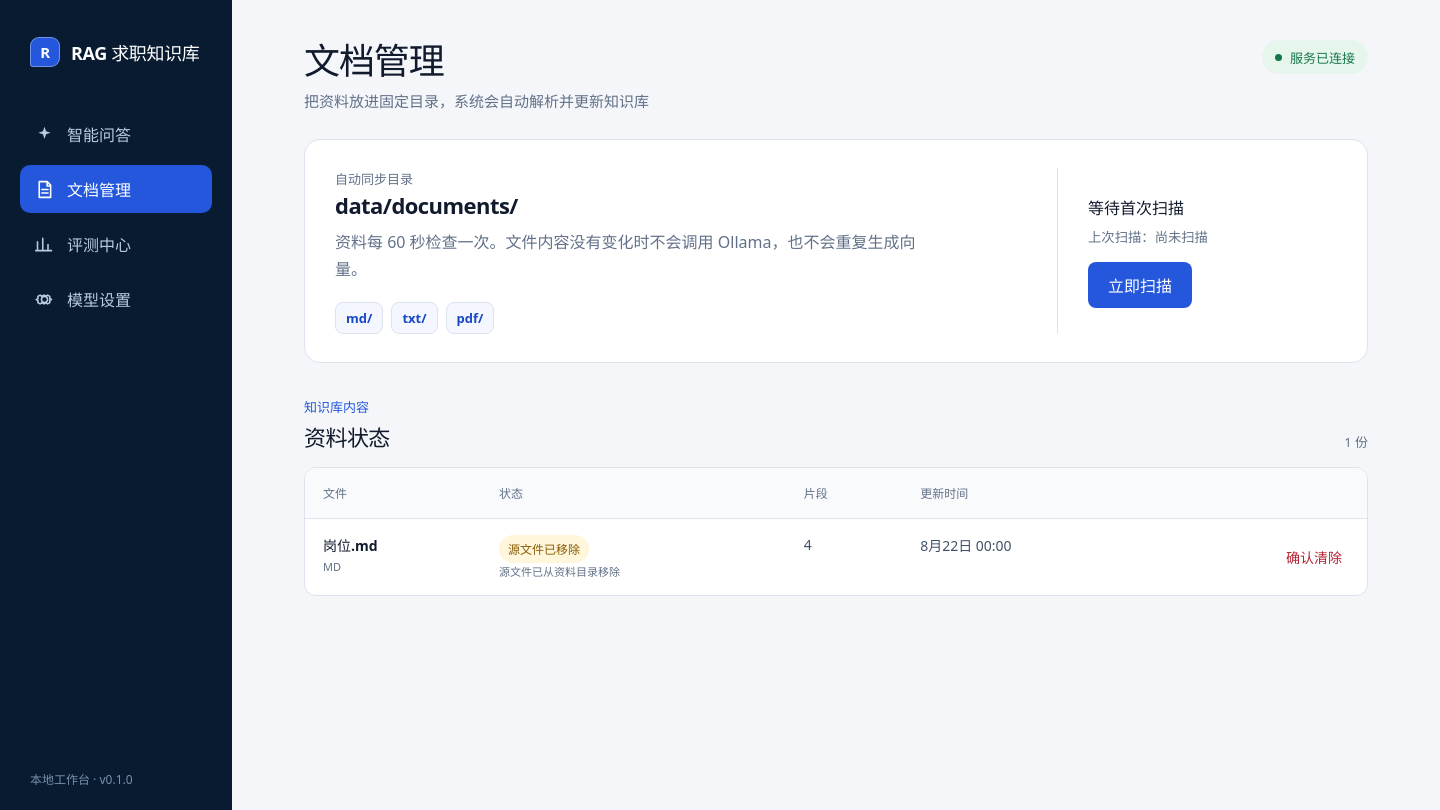
it: DocumentsView › only offers confirmed cleanup for a missing source
Click the button with class "danger".
click(1314, 557)  # box [1279,535,1349,579]
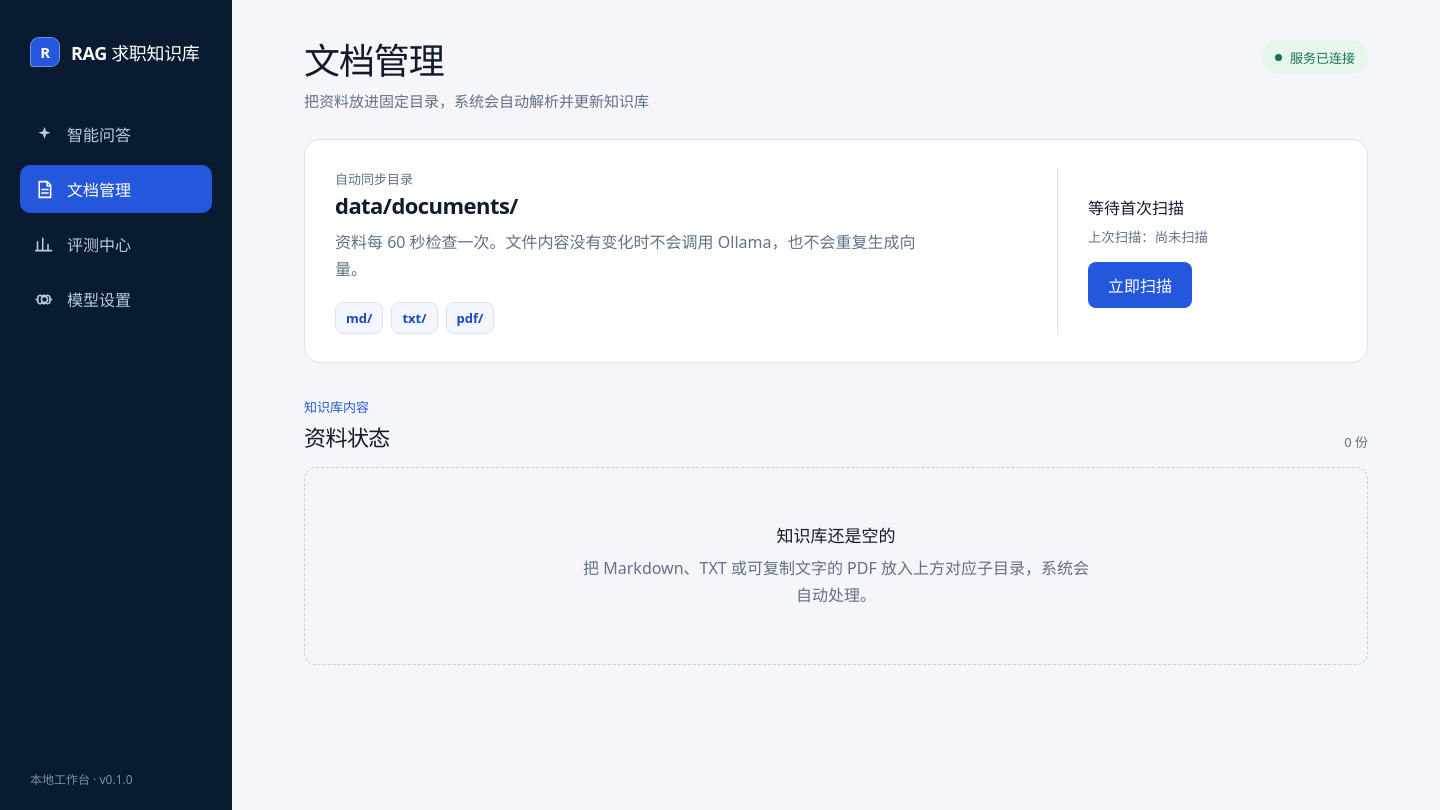
Check: the text "岗位.md" is gone
